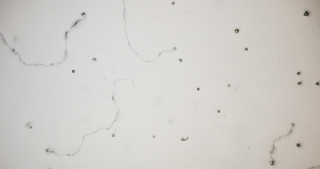germinated: (72, 7, 89, 27), (44, 145, 65, 159), (158, 42, 180, 55), (263, 148, 278, 167), (179, 134, 189, 146), (25, 123, 34, 130)
nongerminated: (301, 7, 312, 21), (107, 131, 118, 143), (173, 55, 187, 64), (231, 25, 242, 36), (241, 43, 251, 54), (68, 66, 78, 77), (293, 140, 303, 150), (294, 66, 303, 77), (214, 106, 223, 117), (313, 77, 320, 90), (295, 78, 304, 87), (89, 54, 98, 63), (193, 85, 203, 93), (225, 82, 235, 90), (168, 0, 178, 8), (150, 132, 158, 141)
